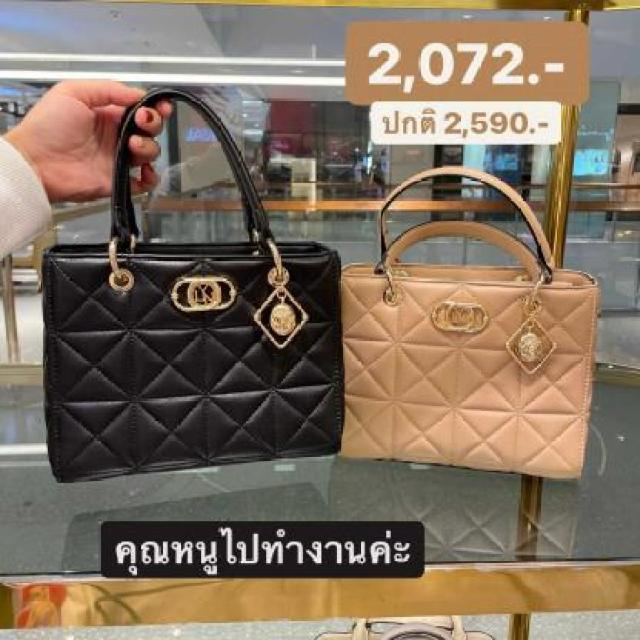Bag: (17, 83, 368, 495), (312, 116, 638, 527)
